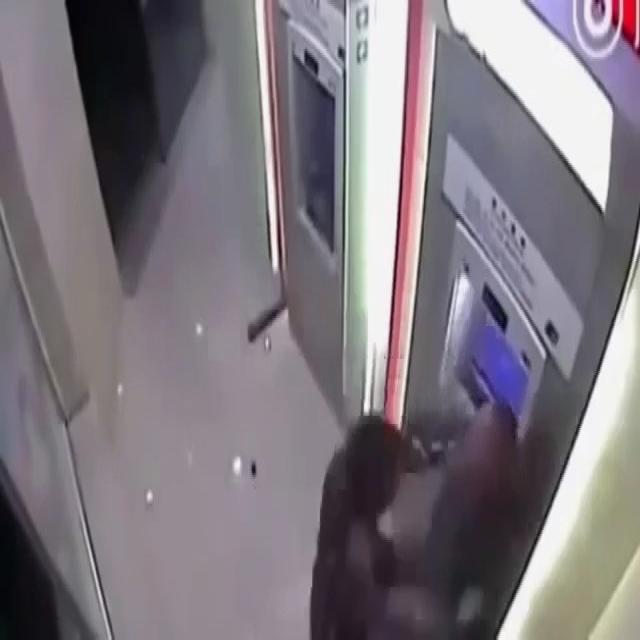fight: (310, 393, 520, 640)
